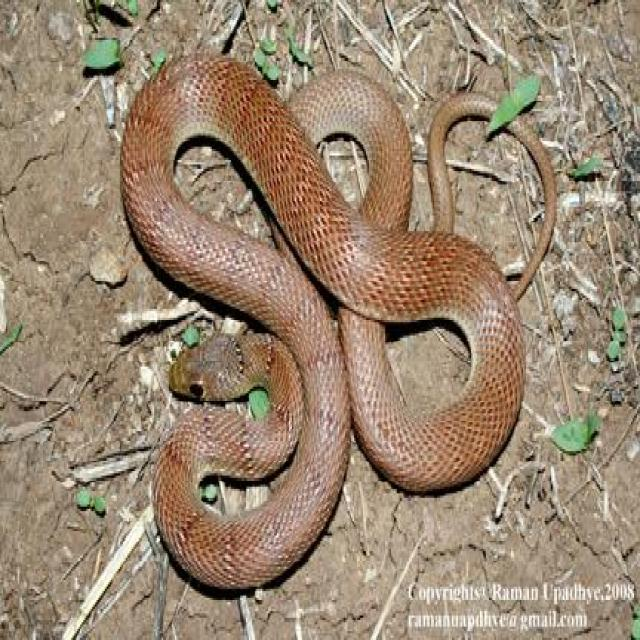Snake: (117, 49, 556, 591)
